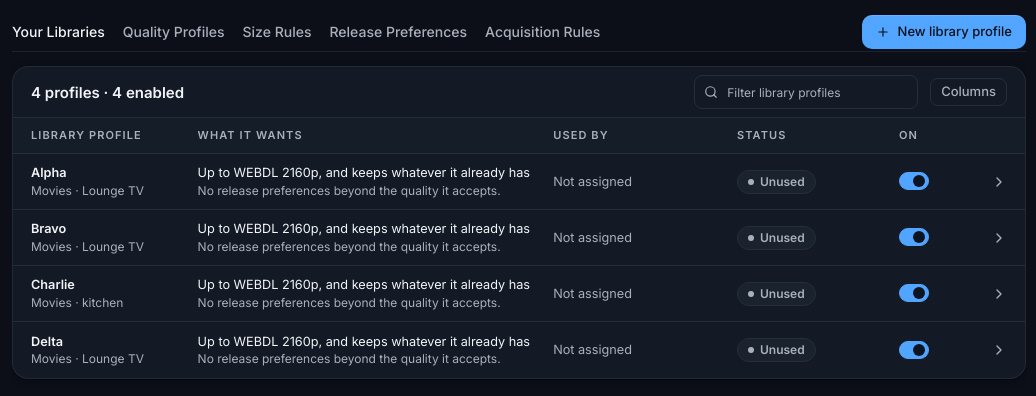
Scenario: the list of library profiles › with more than three profiles the filter narrows them by name, quality, rule or note
Step 1. Type "kitchen" into the search field with placeholder "Filter library profiles" → (806, 92), box x1=694 y1=75 x2=918 y2=109
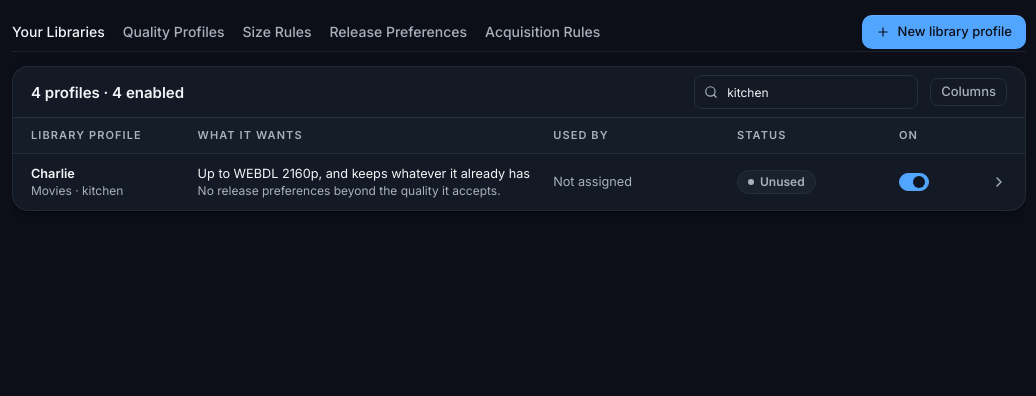
expect the text "Charlie" is shown: met, box x1=31 y1=166 x2=75 y2=181
expect the text "Alpha" is gone: met
Step 2. Replace the text in the search field with placeholder "Filter library profiles" with "zzz" → (806, 92), box x1=694 y1=75 x2=918 y2=109
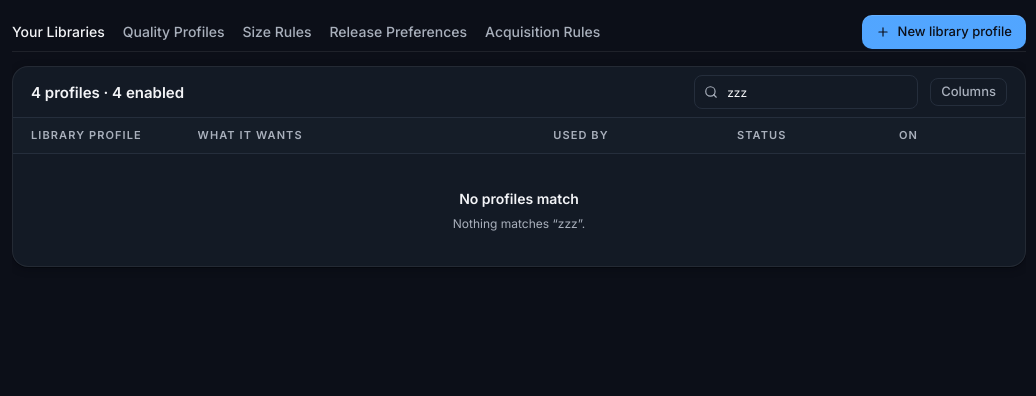
expect the text "No profiles match" is shown: met, box x1=459 y1=188 x2=579 y2=208
